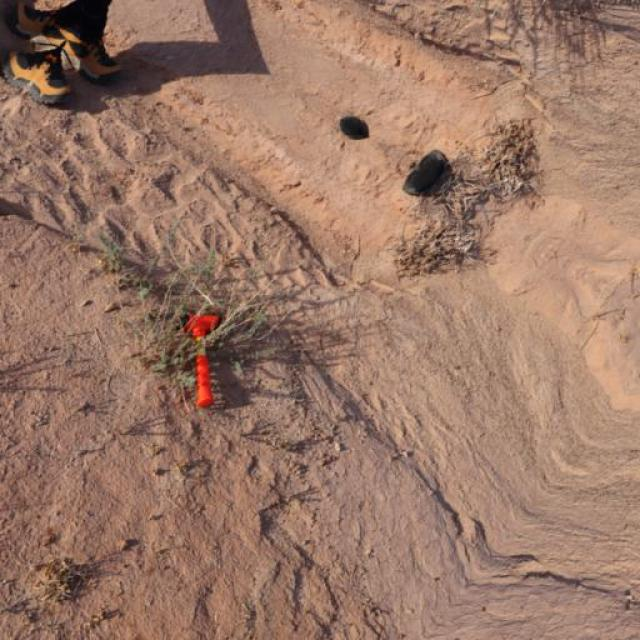mallet: (181, 312, 220, 408)
